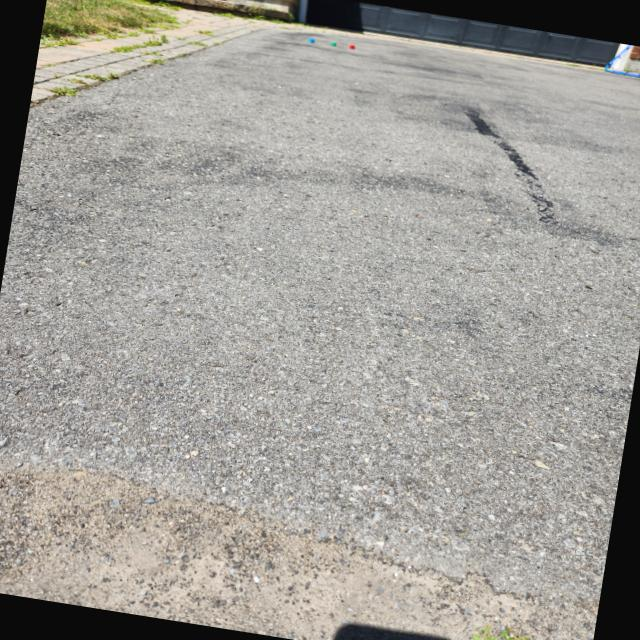bluecube: (308, 38, 314, 44)
green cube: (331, 42, 336, 46)
red cube: (349, 44, 355, 50)
